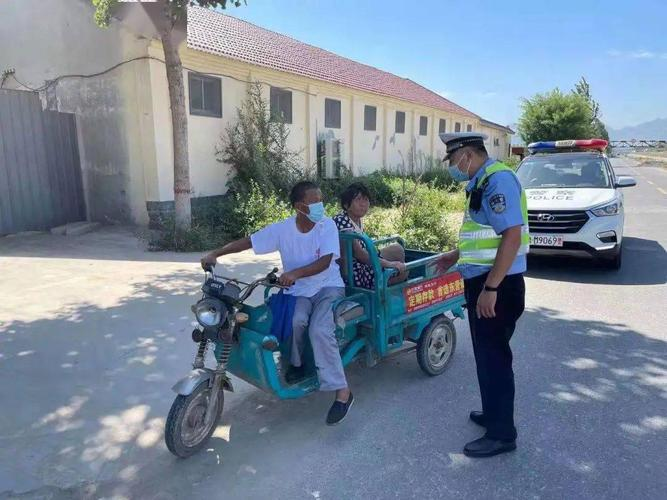driver: (239, 169, 372, 432)
overloading: (176, 165, 476, 423)
passenger: (332, 180, 396, 283)
